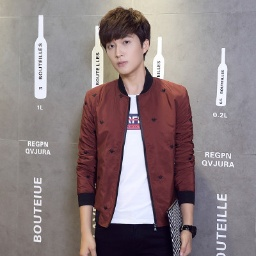face: (97, 5, 153, 76)
